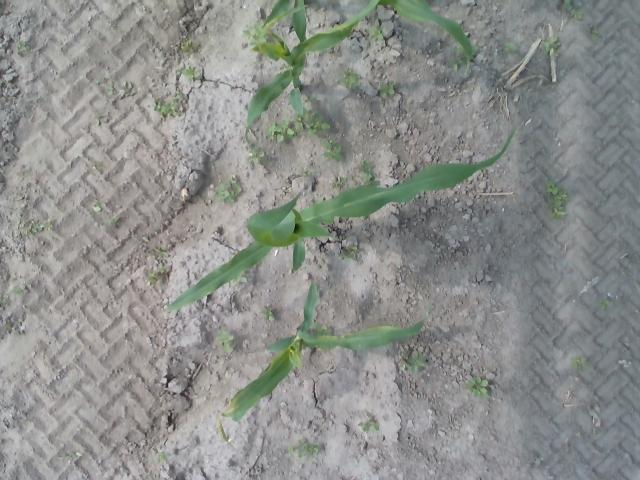Maize: (160, 126, 516, 314), (223, 272, 425, 424), (244, 2, 376, 147), (262, 1, 476, 61)
Weeds: (290, 439, 318, 459), (548, 184, 566, 214), (270, 122, 293, 142), (468, 376, 490, 396), (359, 412, 379, 434), (220, 330, 238, 354), (408, 352, 428, 372), (378, 80, 397, 100), (310, 116, 329, 134), (19, 221, 43, 235), (544, 36, 562, 54), (323, 144, 343, 160), (246, 146, 266, 162), (562, 0, 580, 17), (217, 184, 236, 200), (143, 269, 164, 283), (154, 99, 170, 113), (341, 74, 357, 88), (344, 246, 362, 258), (181, 67, 199, 78), (261, 307, 275, 321), (157, 452, 170, 466), (181, 42, 199, 52), (574, 357, 586, 370), (598, 296, 610, 308), (361, 161, 372, 173), (228, 176, 238, 184)
